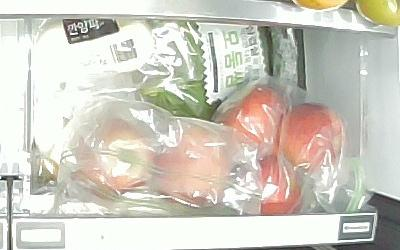apple_vinyl: (69, 105, 159, 195), (155, 123, 233, 209), (216, 84, 287, 156), (282, 101, 344, 174), (231, 158, 305, 215)
